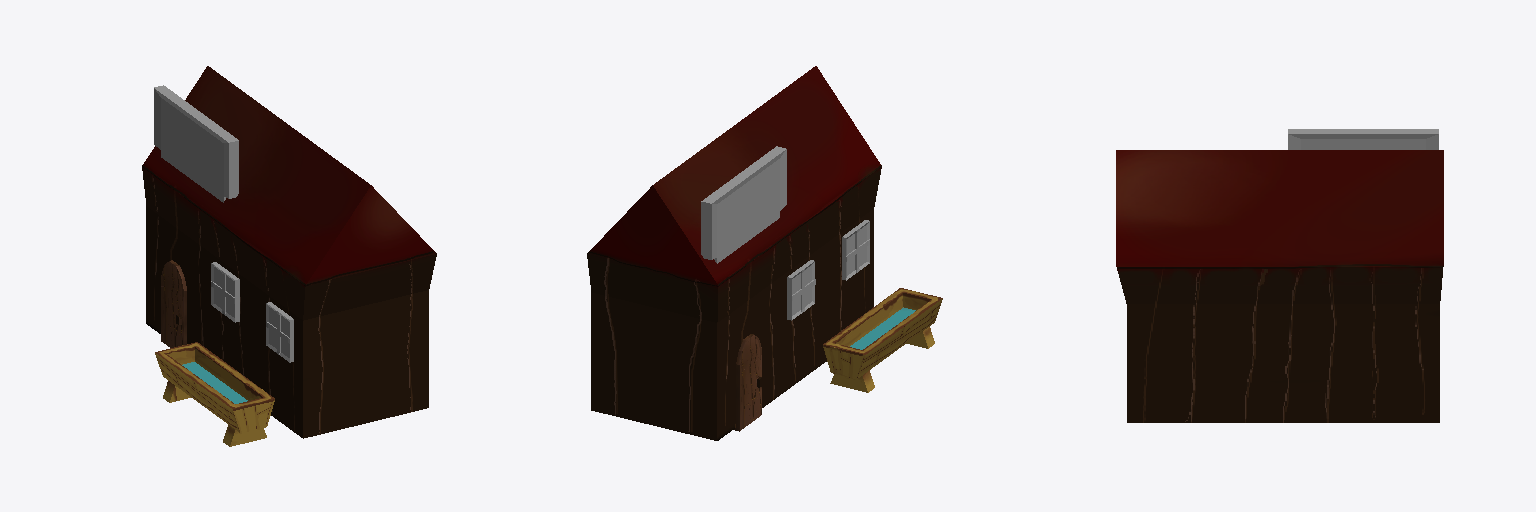
3 renders of one model, left to right at view 1: azimuth 30°, elevation 25°; view 2: azimuth 150°, elevation 25°; view 3: azimuth 270°, elevation 25°, orthographic.
Parts seen in each view (by area): view 1: Cube.012_Cube.008; view 2: Cube.012_Cube.008; view 3: Cube.012_Cube.008.
Part boxes in pixels (left/top/right/bottom): Cube.012_Cube.008: left=142, top=66, right=436, bottom=446; Cube.012_Cube.008: left=587, top=66, right=942, bottom=440; Cube.012_Cube.008: left=1116, top=129, right=1443, bottom=422.
Size of the model in its own units: 8.84 by 10.42 by 12.61.
Materials: 5 (3 with a texture image).